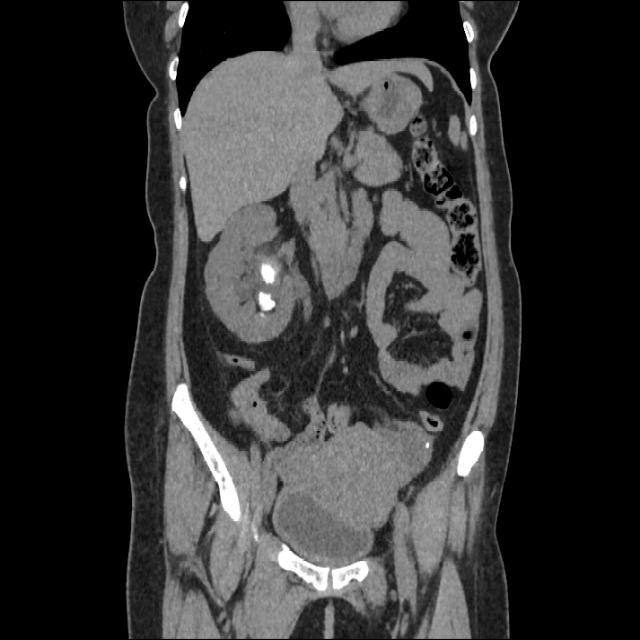kidney: (204, 199, 316, 344)
stone: (256, 289, 278, 311), (260, 261, 276, 283)
